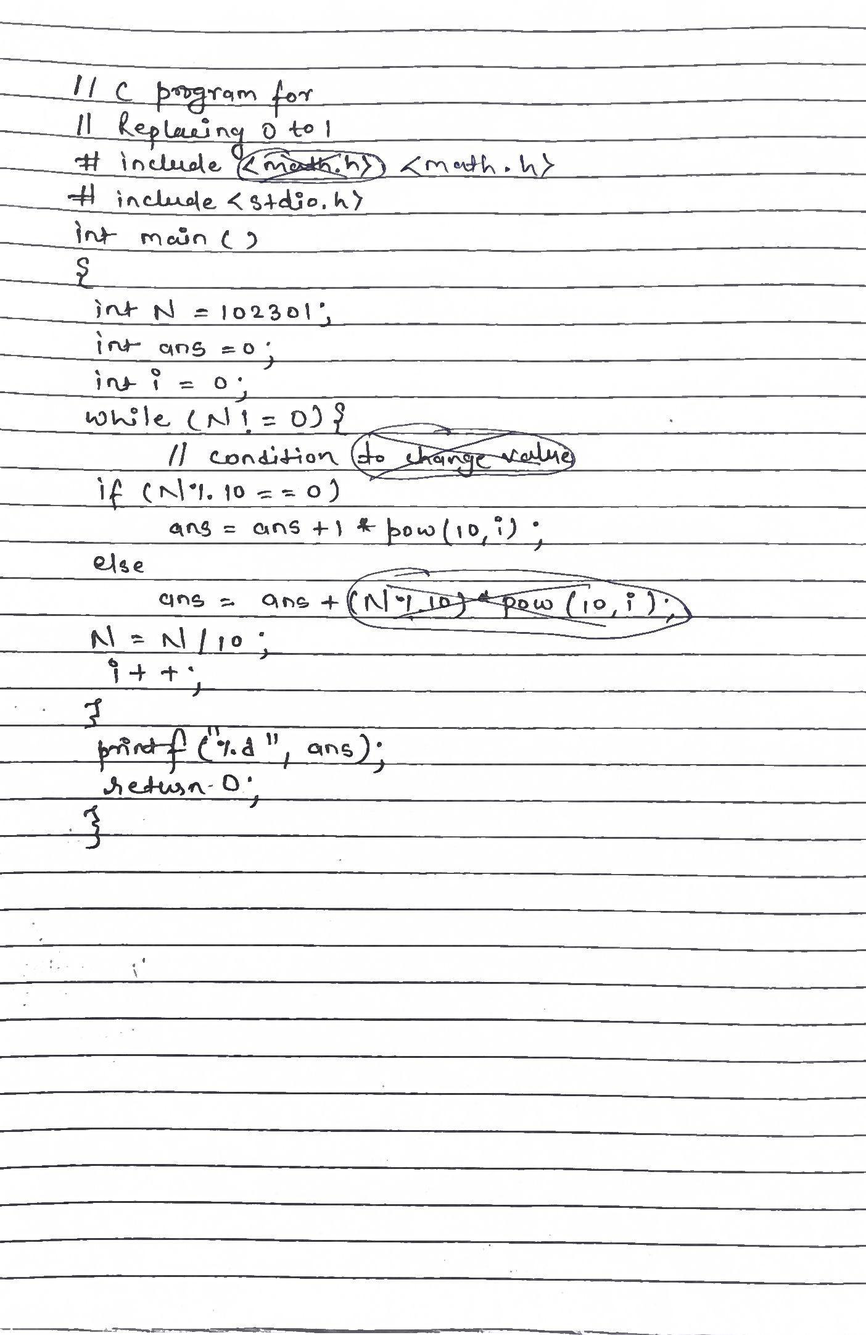cuttings: (341, 566, 696, 643), (349, 419, 580, 485), (235, 146, 392, 189)
